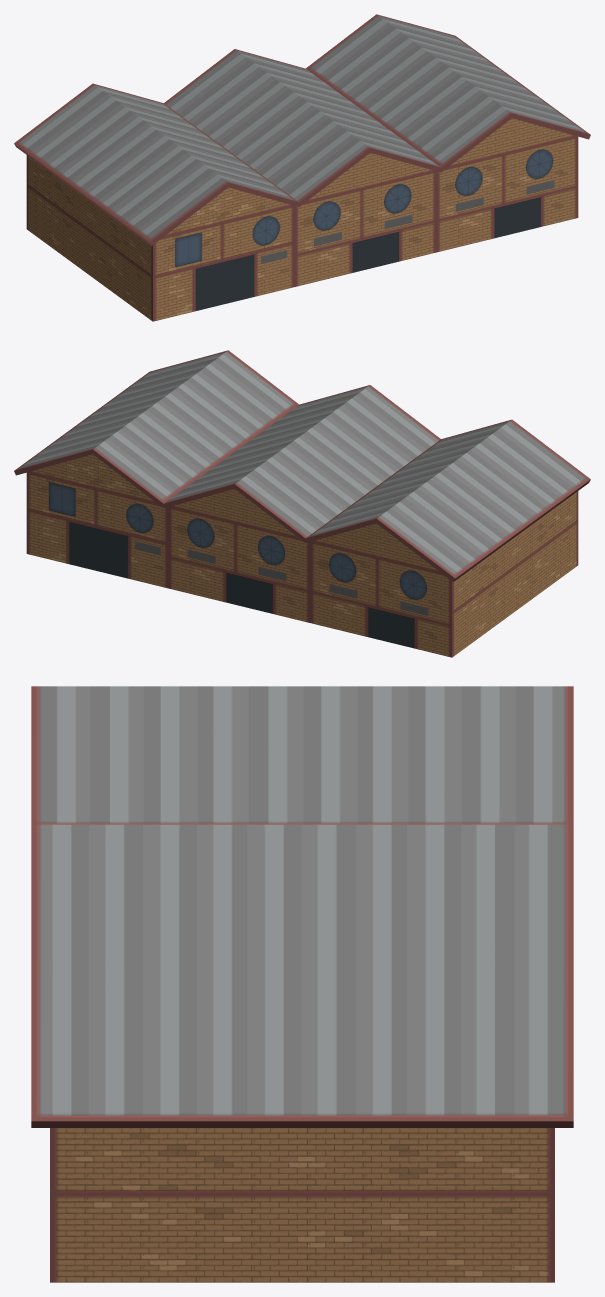
File: FabricaVinicola.fbx
3 views of the same model, one above another, from view 1: azimuth 30°, elevation 25°; view 2: azimuth 150°, elevation 25°; view 3: azimuth 270°, elevation 25° (orthographic). The views are drawn at different scales.
Visible parts, largest first — view 1: Cube.008; view 2: Cube.008; view 3: Cube.008.
Part boxes in pixels (x1,y1,x2,y2): Cube.008: [14, 14, 590, 321]; Cube.008: [14, 350, 590, 657]; Cube.008: [31, 686, 573, 1282].
Size of the model in its own units: 2187 by 592 by 1164.
1 material, 1 textured.
